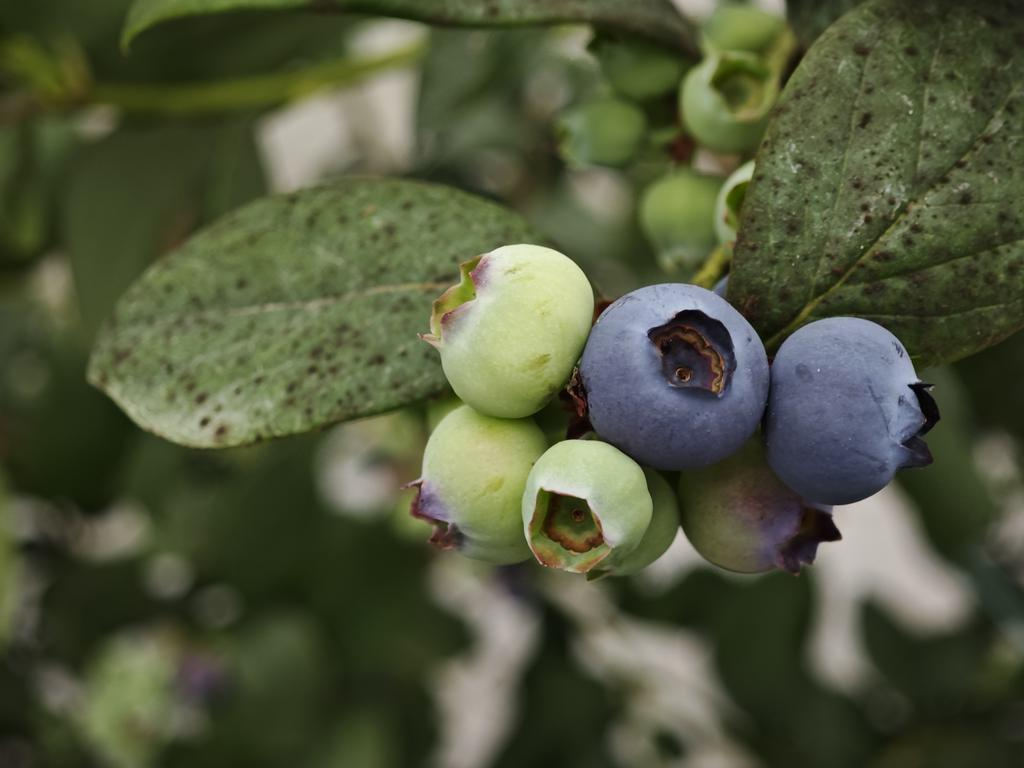RipeBlueBerry: (578, 279, 772, 470), (772, 313, 941, 508)
UnripeBlueBerry: (424, 240, 596, 422), (405, 409, 545, 571)
